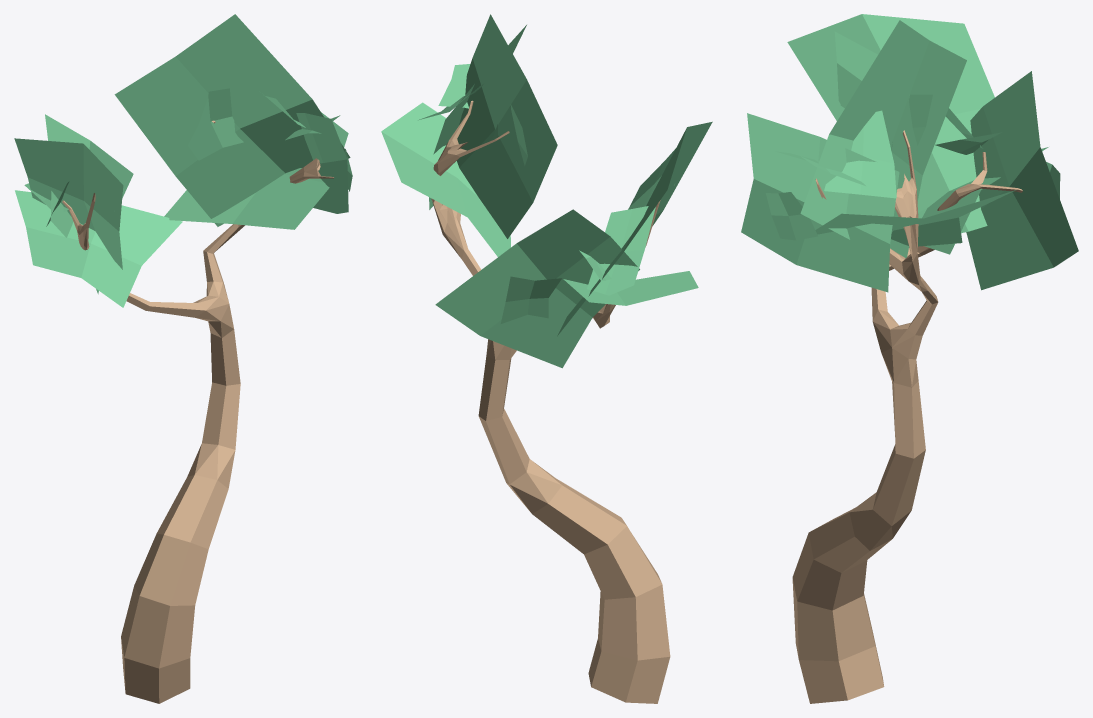
The model's file is tree2.fbx.
3 renders of one model, left to right at view 1: azimuth 30°, elevation 25°; view 2: azimuth 150°, elevation 25°; view 3: azimuth 270°, elevation 25°, orthographic. The views are drawn at different scales.
Visible parts, largest first — view 1: tree02_mesh; view 2: tree02_mesh; view 3: tree02_mesh.
Part boxes in pixels (bbox=[...]): tree02_mesh: bbox=[14, 14, 352, 703]; tree02_mesh: bbox=[381, 14, 712, 703]; tree02_mesh: bbox=[741, 14, 1078, 703].
Bounding box in the file's own units: 72.81 × 152 × 62.72.
